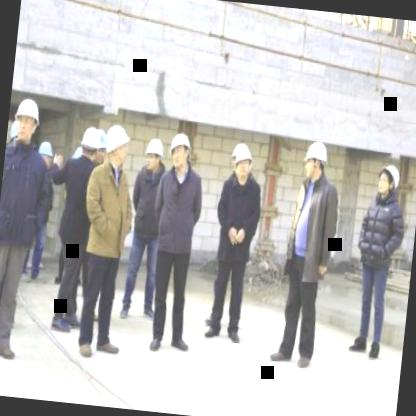helmet: (10, 91, 44, 146), (301, 136, 331, 184), (103, 124, 131, 171), (227, 140, 256, 184), (165, 129, 193, 174), (374, 158, 402, 200), (142, 134, 166, 176), (76, 123, 100, 162), (34, 135, 56, 171), (94, 129, 108, 164)
